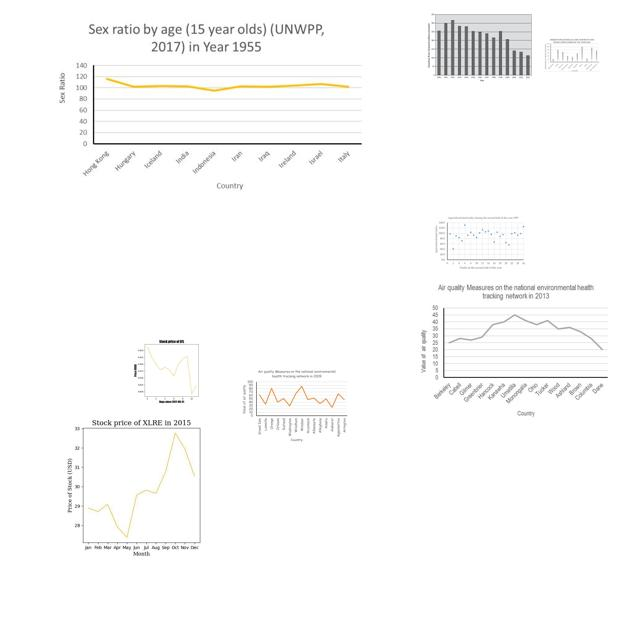Graph: (55, 16, 369, 191), (40, 410, 238, 559), (413, 281, 617, 423), (240, 368, 349, 443), (427, 11, 533, 82), (125, 336, 216, 404), (434, 215, 526, 271), (544, 38, 600, 72)
